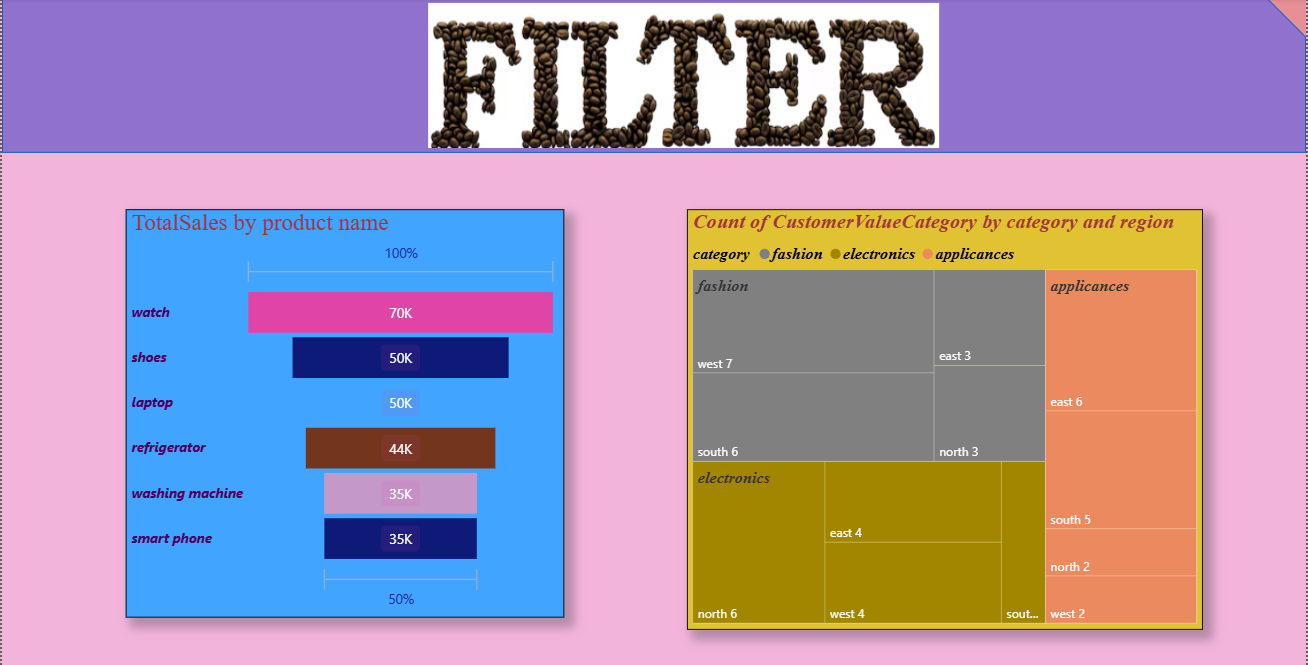

Layout of this report page (visuals, bound fields, positions):
{"tool":"powerbi","page":{"name":"filters","canvas":[1280,720],"ordinal":5},"visuals":[{"type":"shape","box":[0,0,1280,152],"z":0},{"type":"image","box":[413.8,0,511.5,152],"z":1000},{"type":"funnel","fields":{"Category":["product table.product name","category table.region"],"Y":["sales table.TotalSales"]},"box":[121.9,207.5,430.7,400.5],"z":3000},{"type":"treemap","fields":{"Group":["product table.category"],"Details":["category table.region"],"Values":["CountNonNull(sales table.CustomerValueCategory)"]},"box":[672,207.5,506.7,412.6],"z":4000}]}

Visuals, with their boxes on the page's 1280x720 design canvas (x1, y1, x2, y2). These are canvas units, not pixel positions in the 1308x665 screenshot, which may show the page scaled, cropped or inside an application window:
shape: [x1=0, y1=0, x2=1280, y2=152]
image: [x1=414, y1=0, x2=925, y2=152]
funnel - product table.product name x category table.region: [x1=122, y1=208, x2=553, y2=608]
treemap - product table.category x category table.region: [x1=672, y1=208, x2=1179, y2=620]
